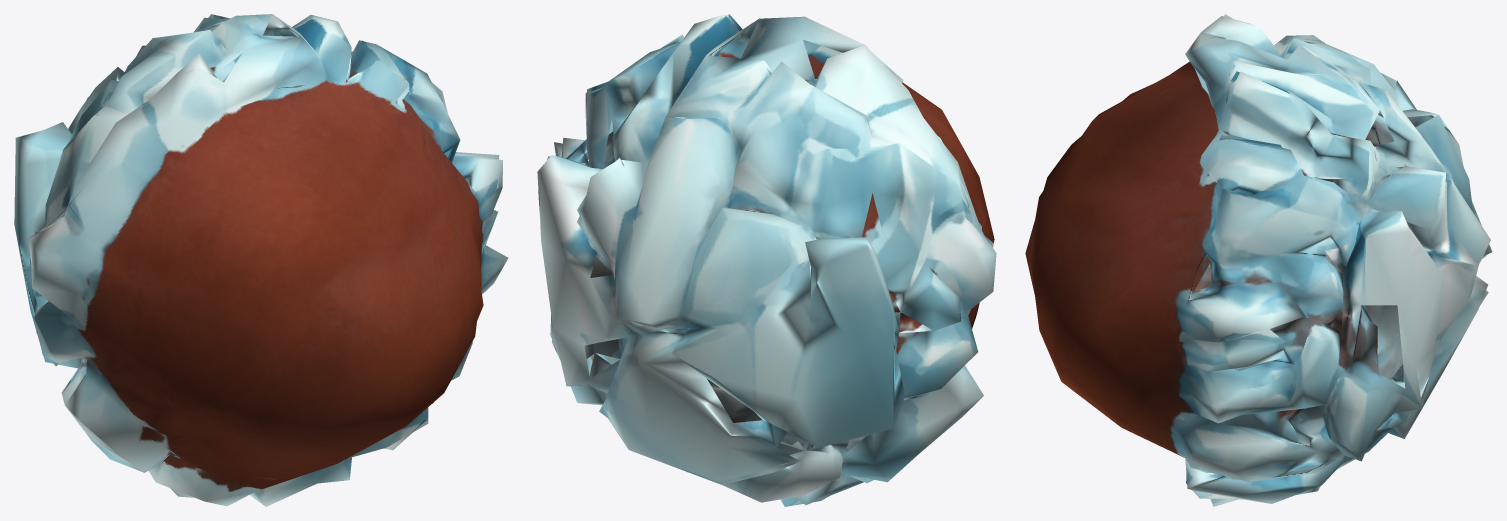
File: led-valun-v-shube.glb
3 views of the same model, side by side, from view 1: azimuth 30°, elevation 25°; view 2: azimuth 150°, elevation 25°; view 3: azimuth 270°, elevation 25° (orthographic). The views are drawn at different scales.
Parts seen in each view (by area): view 1: geometry_0; view 2: geometry_0; view 3: geometry_0.
Boxes of the visible parts, x1,y1,x2,y2 form: geometry_0: (14,14,508,506); geometry_0: (537,14,996,506); geometry_0: (1025,14,1492,506).
Size of the model in its own units: 0.9876 by 0.9427 by 0.9192.
1 material, 1 textured.
